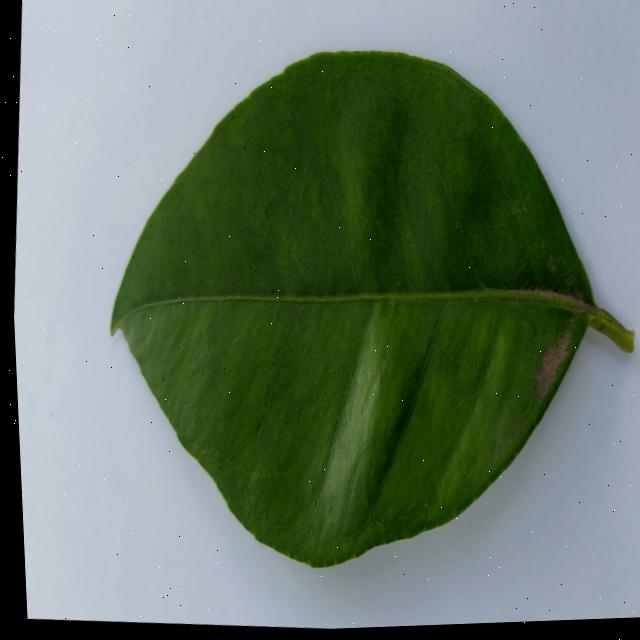greening: (111, 51, 632, 564)
